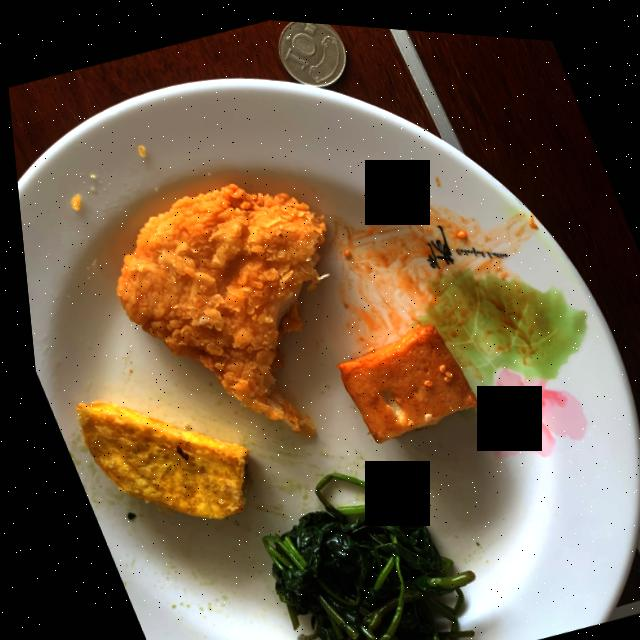coin: (278, 17, 346, 82)
creamy tofu: (330, 318, 472, 438)
fried chicken cutlet: (111, 180, 322, 433)
sweet potato leaves: (252, 469, 464, 640)
